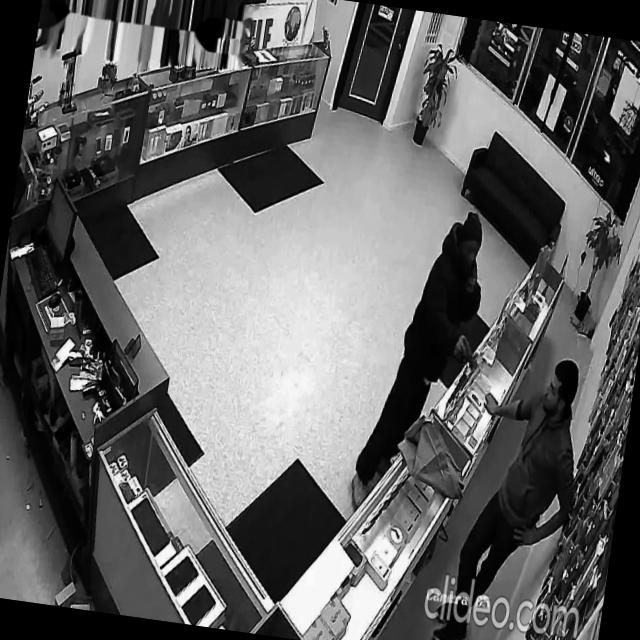gun: (458, 337, 479, 372)
person: (430, 344, 594, 640)
person with a gun: (348, 197, 498, 522)
